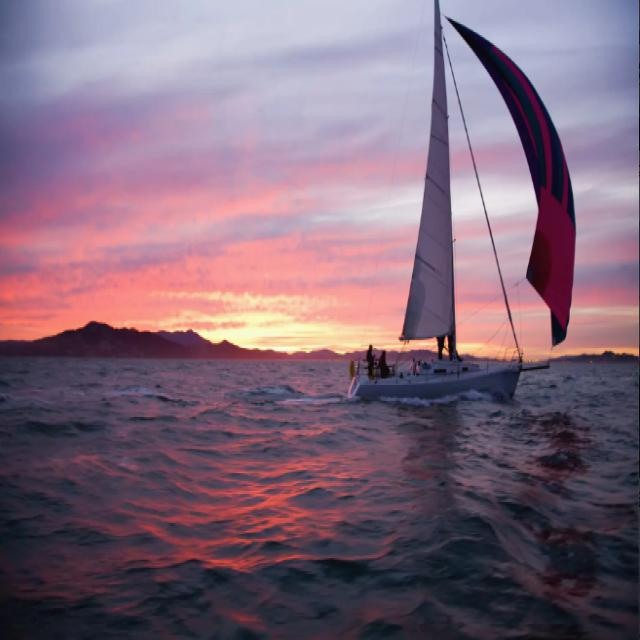sailboat: (354, 1, 582, 408)
